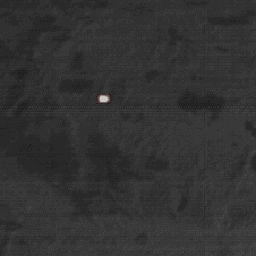Target: (97, 93, 110, 103)
